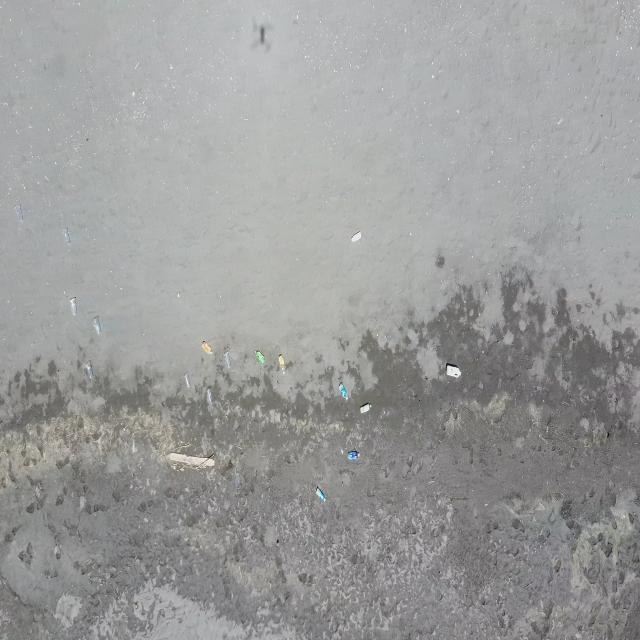plastic-bottle: (446, 361, 463, 378), (316, 485, 328, 504), (254, 349, 266, 366), (278, 354, 287, 376), (348, 449, 362, 462), (351, 230, 363, 245), (339, 382, 348, 401), (359, 400, 372, 413), (202, 341, 214, 355)
takeaway-cup: (223, 348, 232, 368), (62, 228, 72, 246), (183, 370, 192, 389), (206, 386, 214, 407), (93, 314, 101, 335), (15, 204, 24, 222), (86, 360, 94, 380), (70, 296, 77, 317)
